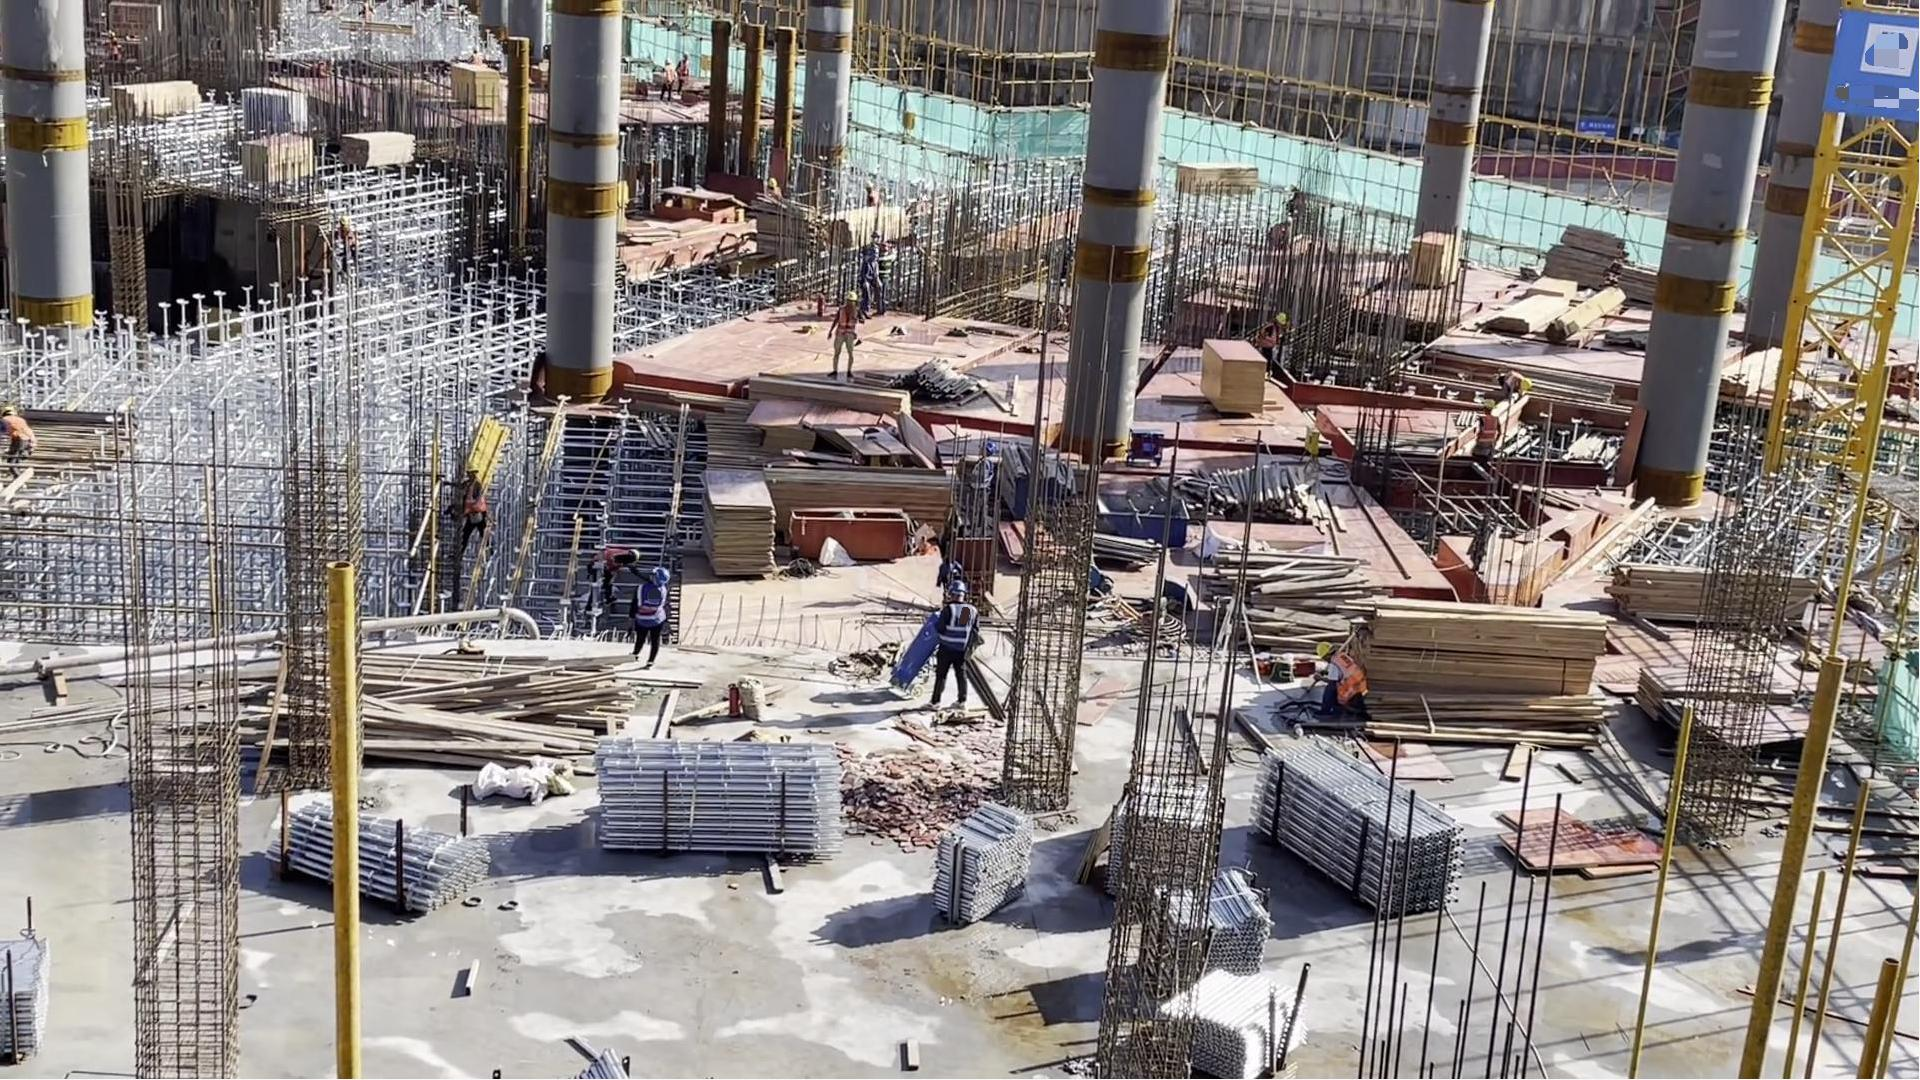board: (1497, 795, 1674, 884), (698, 466, 779, 577), (1201, 338, 1267, 417), (238, 130, 315, 183), (755, 401, 820, 462), (449, 61, 506, 112), (1408, 231, 1460, 286)
cutter: (651, 185, 746, 226), (834, 420, 914, 467)
ebox: (1301, 425, 1322, 461), (902, 108, 919, 139)
helmet: (1315, 639, 1335, 661), (653, 568, 672, 586), (947, 581, 967, 593), (1519, 376, 1533, 391), (1479, 398, 1497, 411), (1273, 313, 1286, 324), (630, 547, 639, 560), (466, 463, 478, 472), (845, 292, 856, 301)
hopper: (1094, 493, 1190, 551)
person: (927, 581, 978, 707), (441, 461, 490, 560), (628, 566, 672, 670), (1309, 640, 1368, 718), (587, 545, 641, 604), (1, 404, 38, 487), (827, 291, 856, 378), (1255, 312, 1287, 375), (1473, 397, 1502, 460), (860, 246, 883, 319), (1496, 368, 1533, 402), (337, 217, 359, 277), (881, 245, 893, 315), (677, 50, 690, 99), (662, 58, 676, 102), (863, 182, 879, 208), (766, 176, 783, 200)
scaffold: (1248, 737, 1460, 923), (590, 736, 844, 863), (274, 801, 487, 923), (1153, 967, 1310, 1080), (1146, 872, 1266, 995), (1103, 783, 1220, 902), (926, 800, 1031, 927), (1, 937, 48, 1067)
vest: (1333, 653, 1366, 703), (632, 585, 669, 626), (942, 604, 972, 650), (460, 479, 488, 515), (594, 548, 626, 574), (1475, 416, 1498, 448), (835, 307, 855, 338), (1258, 323, 1277, 348), (1501, 368, 1519, 389)
wood: (1353, 593, 1612, 751), (358, 647, 626, 770), (1210, 547, 1374, 654), (1612, 558, 1828, 633), (767, 466, 960, 515), (1184, 463, 1322, 529), (875, 361, 1031, 413), (1487, 286, 1626, 337), (106, 77, 205, 125), (819, 204, 912, 252), (1172, 158, 1258, 199), (342, 130, 416, 171)
